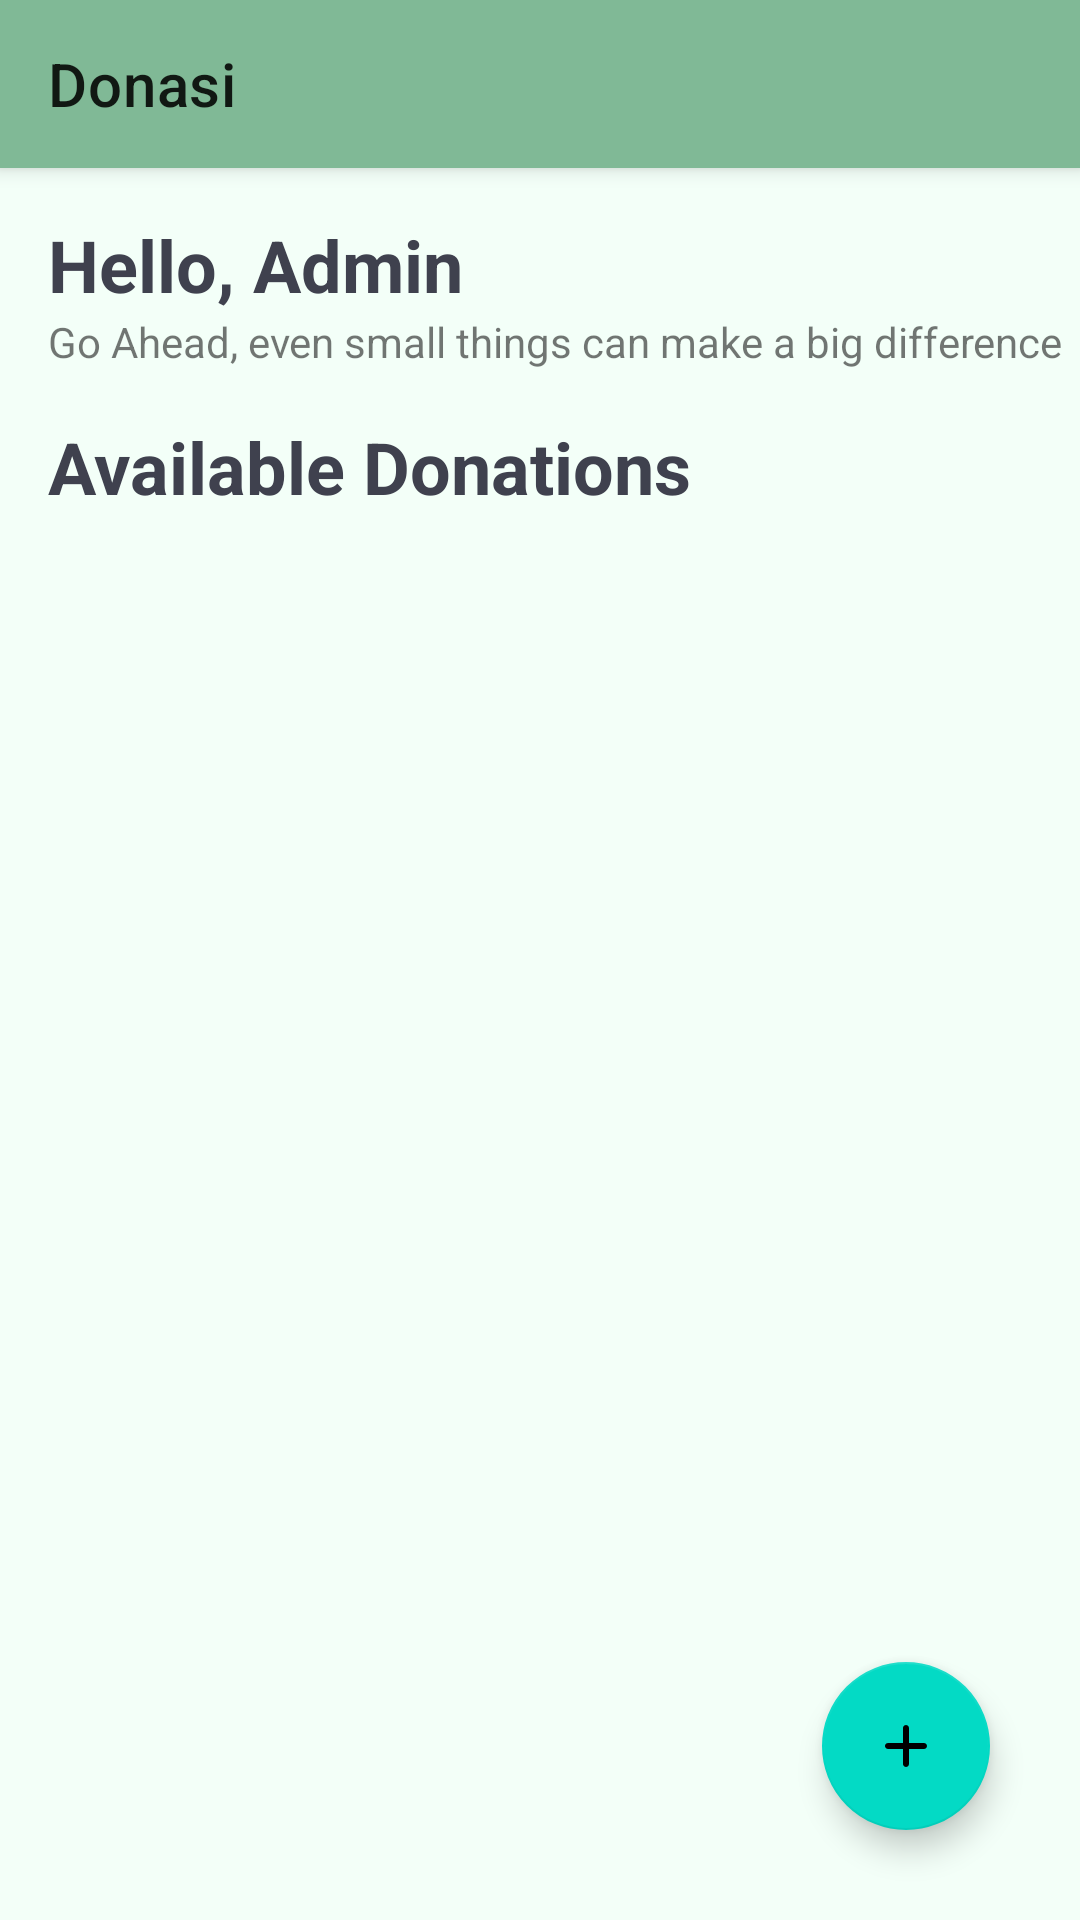

Icon bounding boxes for this 1080px×1920px phone screenshot, format (x1, y1, x2, y2):
Add Data: (822, 1662, 990, 1830)
